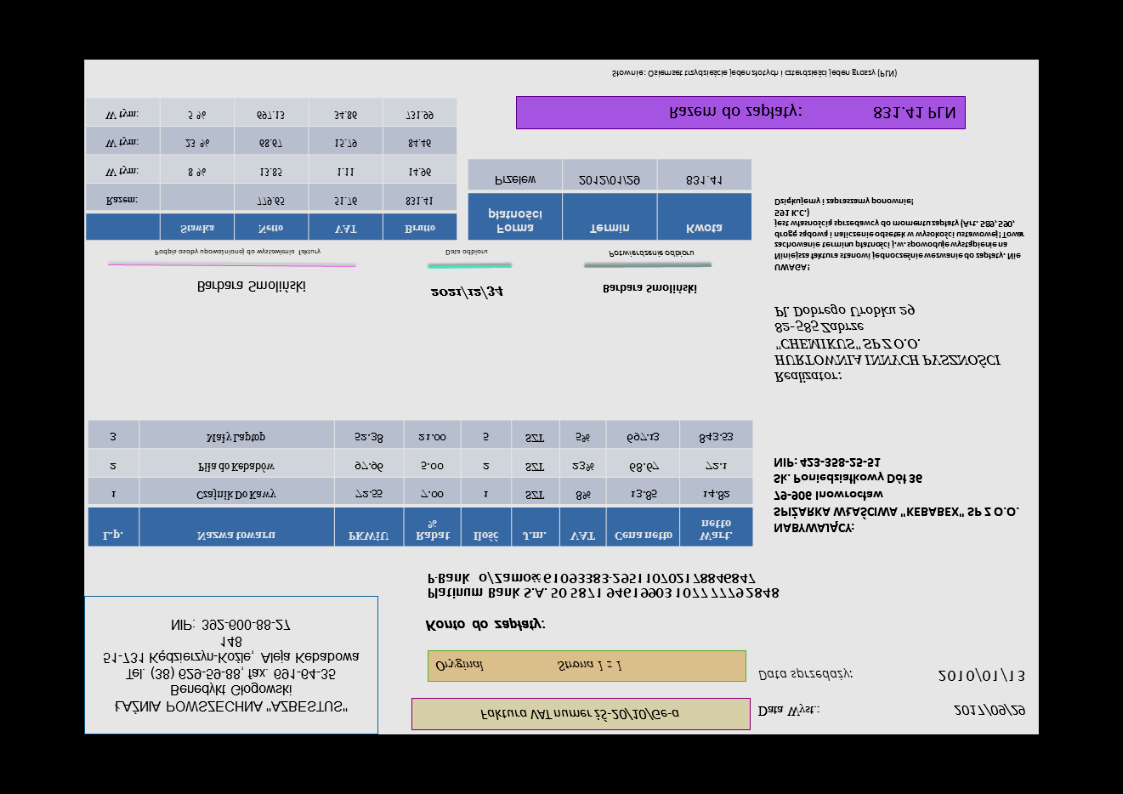Table: (87, 419, 754, 547), (85, 98, 458, 241), (467, 157, 753, 242)
TextBox: (100, 616, 361, 717), (772, 455, 1021, 535), (773, 195, 1026, 273), (772, 304, 1003, 386), (425, 570, 782, 602), (666, 102, 958, 122), (609, 65, 900, 80), (433, 656, 625, 674), (478, 707, 682, 723), (423, 615, 548, 635), (196, 279, 308, 296), (152, 247, 323, 258), (756, 666, 854, 683), (937, 666, 1025, 684), (429, 282, 505, 302), (600, 282, 699, 296), (951, 702, 1026, 719), (756, 701, 820, 719), (606, 248, 695, 259), (444, 248, 489, 258)
